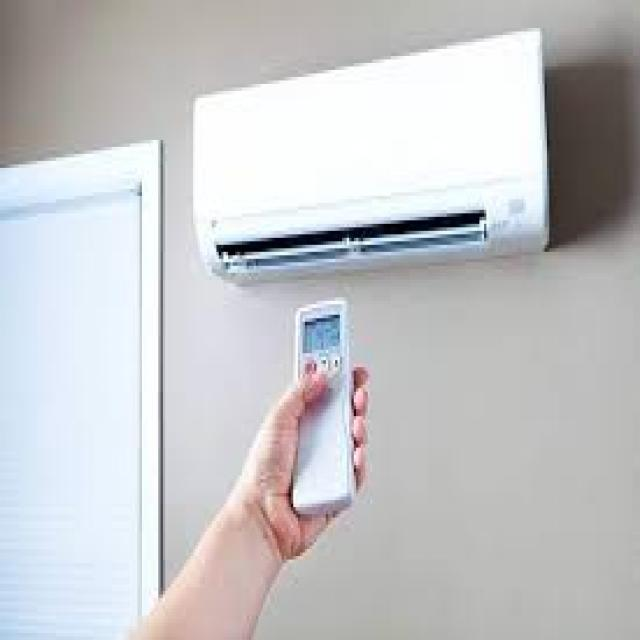AC: (192, 26, 549, 282)
